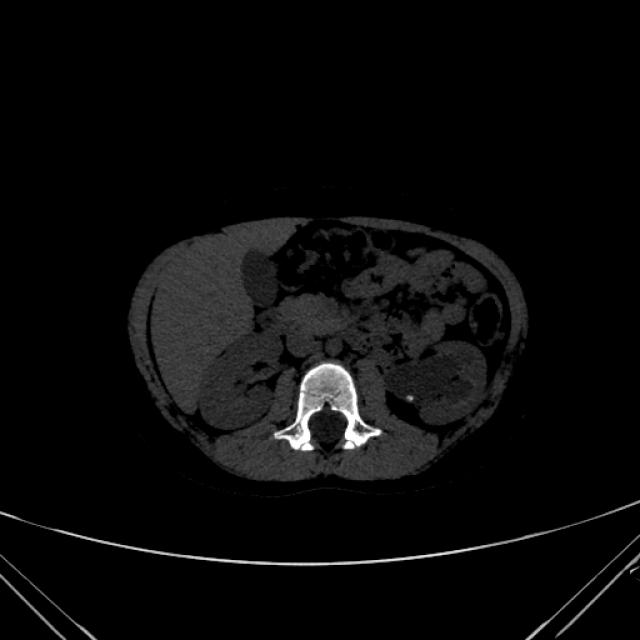kidneystone: (405, 398, 418, 407)
